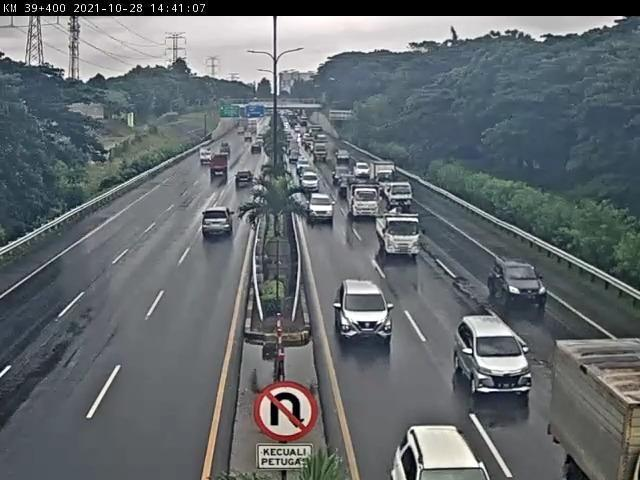car: (453, 317, 535, 397), (336, 279, 395, 344), (486, 256, 549, 308), (307, 193, 336, 225)
truck: (377, 214, 421, 258), (346, 182, 381, 220), (202, 207, 234, 239), (387, 180, 416, 210)
